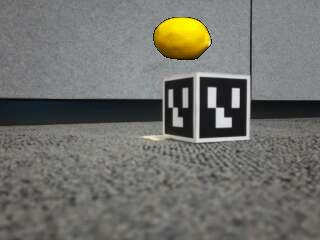lemon: (154, 18, 210, 60)
